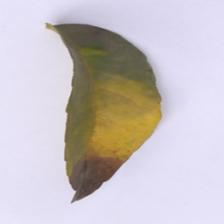black spot: (68, 143, 121, 196)
